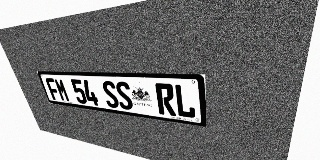4: (81, 80, 99, 106)
5: (70, 79, 88, 104)
F: (45, 78, 61, 101)
L: (174, 84, 196, 119)
M: (53, 78, 71, 102)
R: (155, 83, 176, 116)
S: (114, 81, 134, 111), (101, 81, 120, 109)
